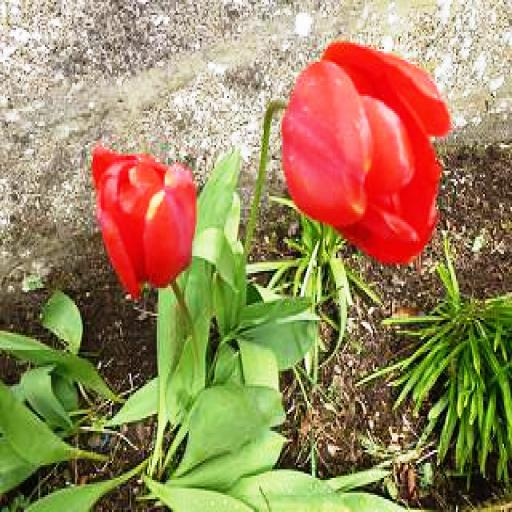tulip: (282, 47, 451, 260), (86, 145, 200, 290)
